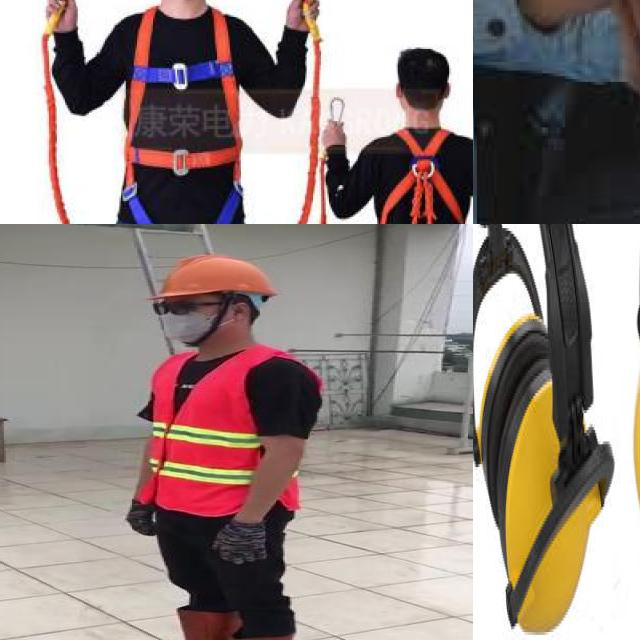Ear-protection: (473, 224, 618, 640)
Harness: (117, 2, 244, 224), (372, 127, 471, 224)
boots: (133, 608, 238, 640)
face_mask: (150, 298, 217, 342)
glasses: (147, 298, 202, 318)
hand_glove: (208, 524, 280, 566), (128, 499, 168, 539)
head_helmet: (145, 253, 284, 300)
person: (110, 249, 325, 640)
vest: (136, 348, 324, 519)
